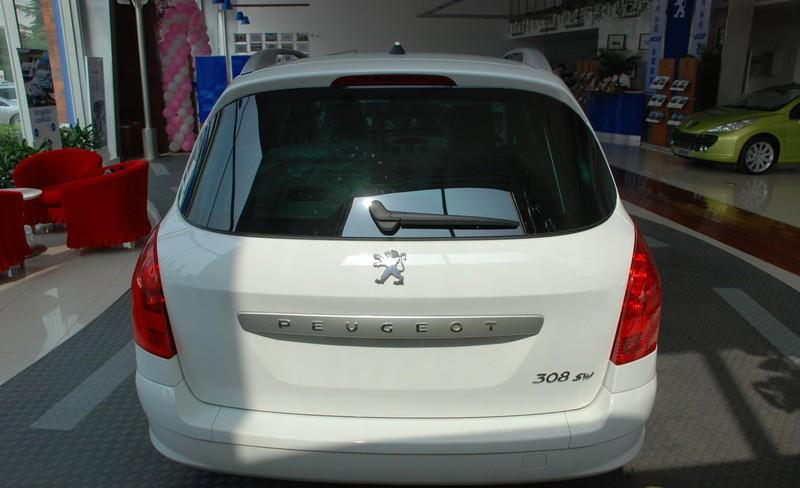Wagon: (131, 43, 664, 485)
